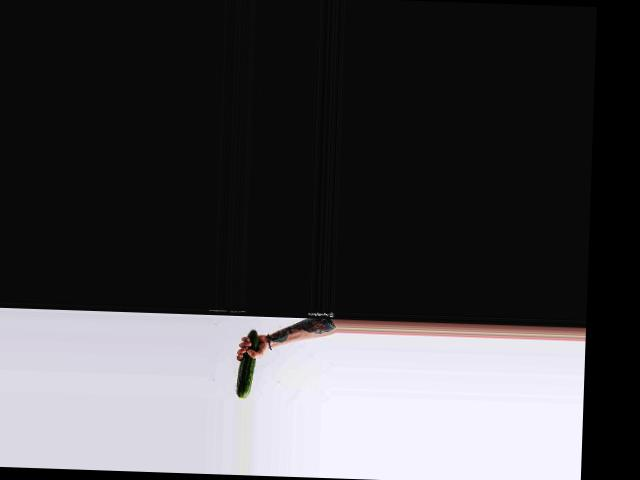cucumber: (235, 329, 258, 399)
